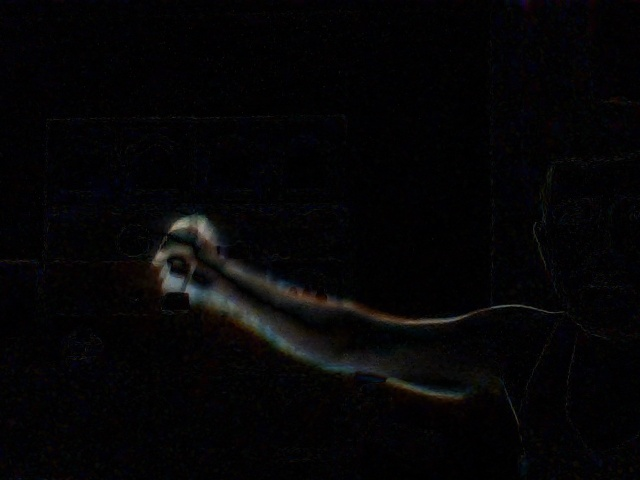hand_fi: (147, 207, 223, 310)
